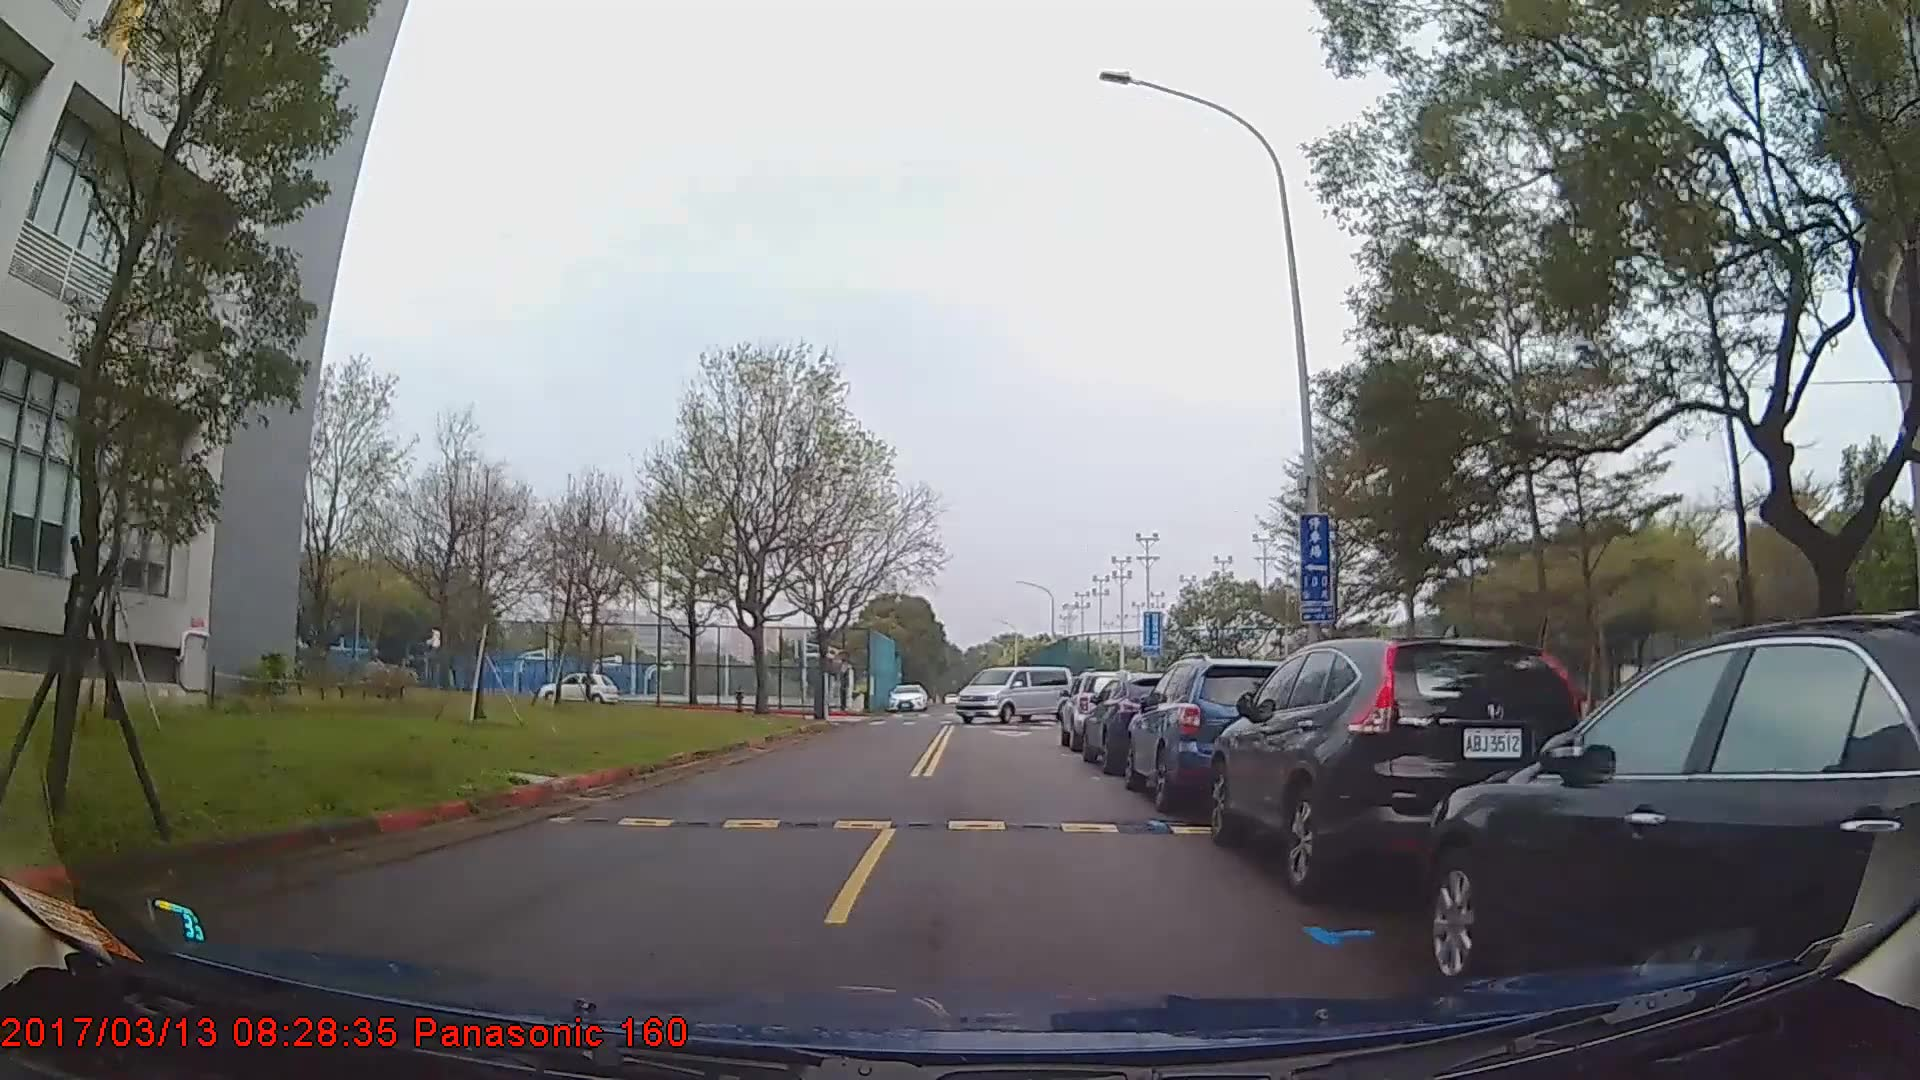vehicle: (1416, 611, 1920, 1021), (1207, 634, 1585, 901), (1122, 655, 1302, 811), (957, 665, 1075, 721), (539, 669, 618, 708), (887, 684, 930, 713)
